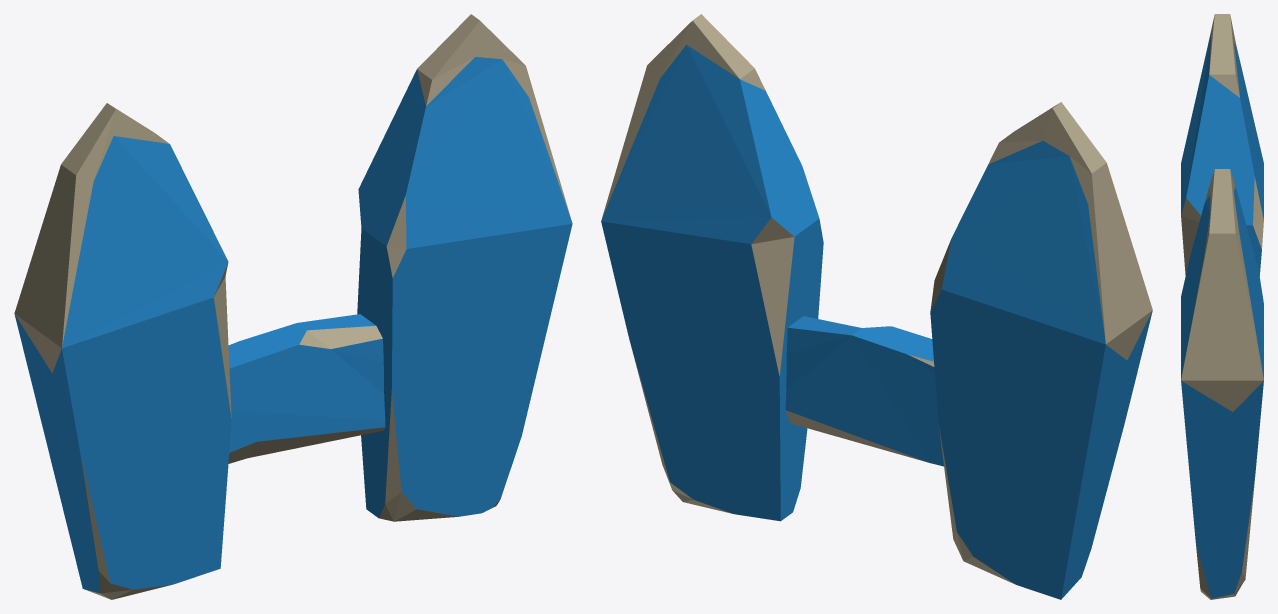
File: Railing_A_02.FBX
The picture shows the model from 3 angles, left to right: view 1: azimuth 30°, elevation 25°; view 2: azimuth 150°, elevation 25°; view 3: azimuth 270°, elevation 25°; orthographic projection. The views are drawn at different scales.
Parts seen in each view (by area): view 1: Railing_A_02; view 2: Railing_A_02; view 3: Railing_A_02.
Part boxes in pixels (<box>): Railing_A_02: <box>14,14,572,599</box>; Railing_A_02: <box>601,14,1152,599</box>; Railing_A_02: <box>1181,14,1263,599</box>.
Size of the model in its own units: 1.83 by 1.67 by 0.2959.
